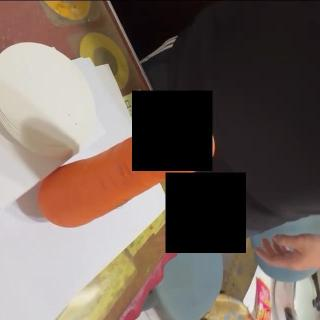carrot: (36, 121, 215, 229)
